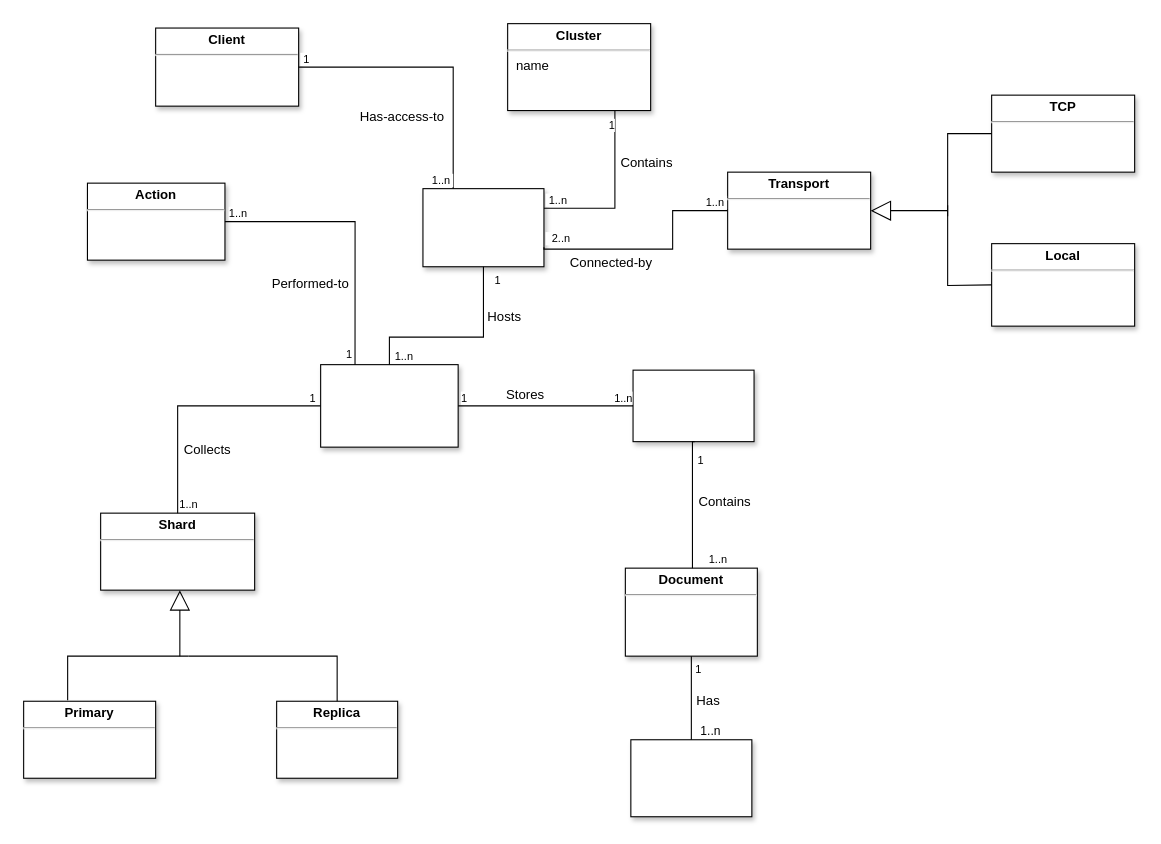
Image size: 1161x844. Some labels were removed from this diagram. The centre of each missing label's shape, as x and y in pixels:
"Document Type" belongs at (x=694, y=407).
"Field type" belongs at (x=691, y=779).
"Index name" belongs at (x=390, y=407).
"Node name" belongs at (x=484, y=228).
